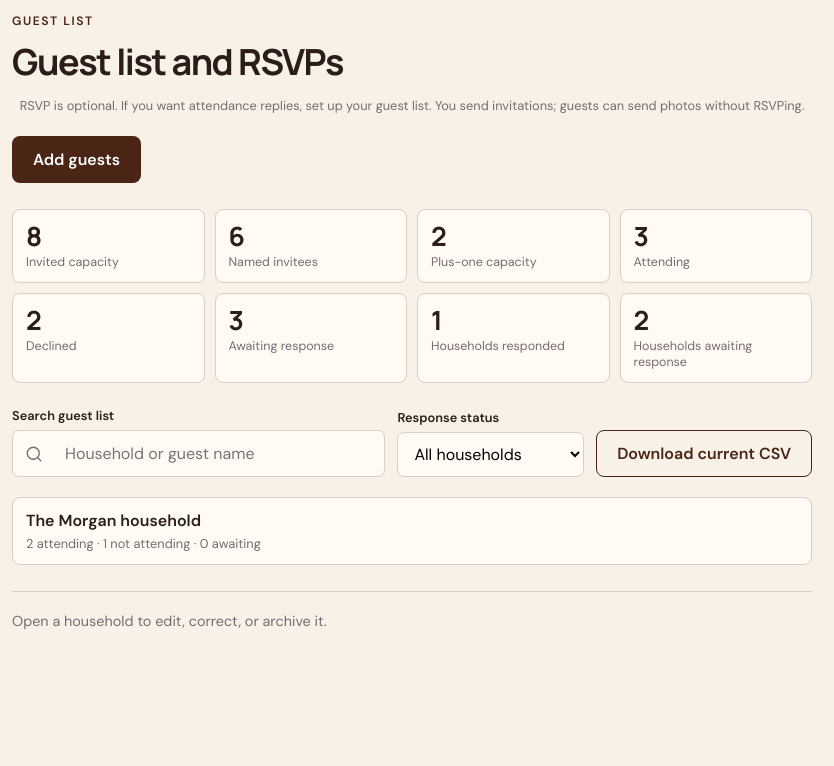
Test case: manager RSVP panel › stops announcing loading after the current household read fails and retains close
Click the button "The Morgan household".
click(114, 521)  # box [12,497,812,565]
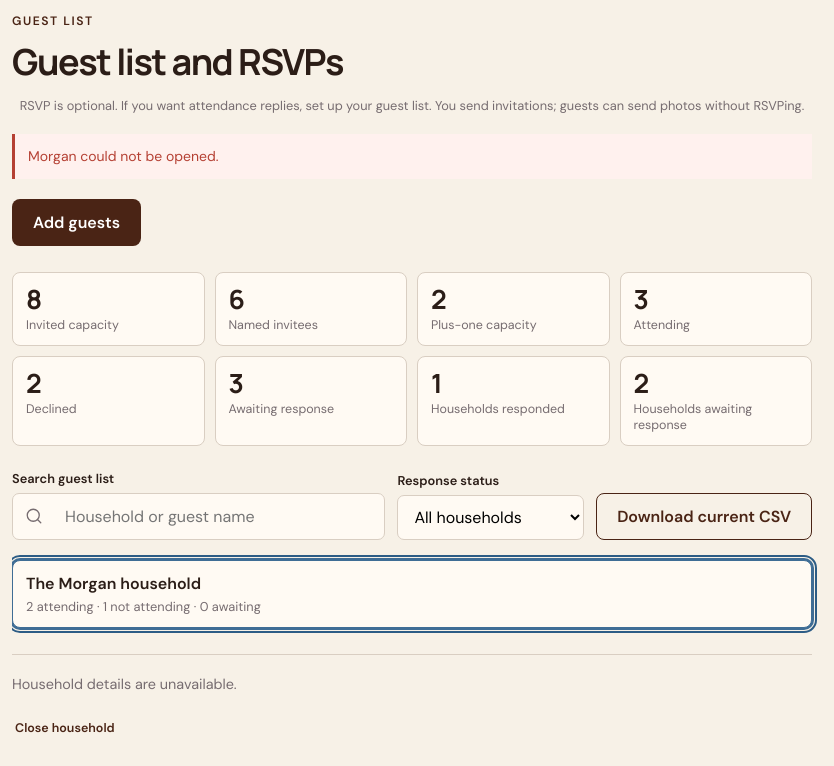
Result: the message reads "Morgan could not be opened." at [28,147,218,165]
Result: the button "Close household" is shown at [12,706,118,750]
